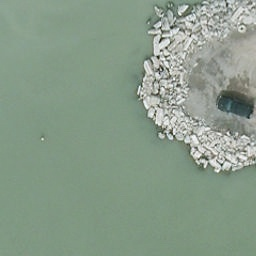car: (216, 94, 255, 117)
